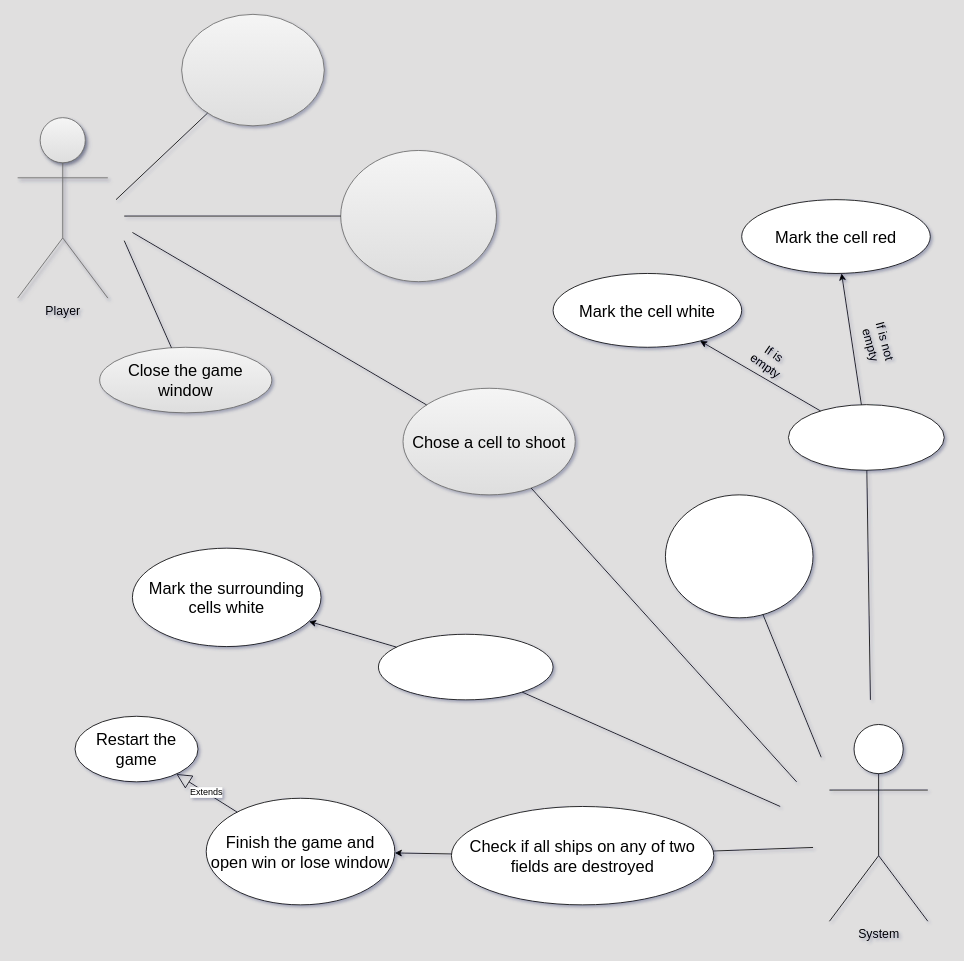
Image size: 964x961. Some labels were removed from this diagram. Here are the shapes that lost their labels. From the top down, the centre of each, then its label:
At point 252,70: "Open the game window and click the button start".
At point 418,216: "Place the ships in own order".
At point 866,437: "Check if a cell is empty".
At point 739,556: "Place the ships in random order".
At point 465,666: "Check if a ship is destroyed".
